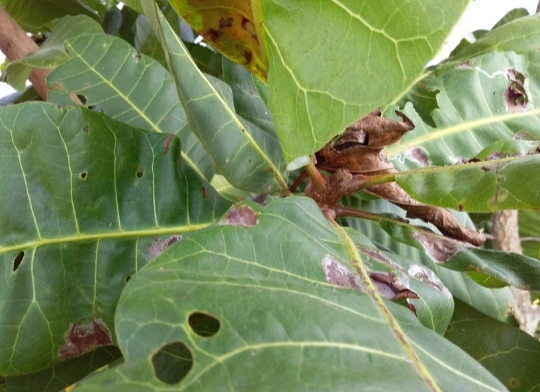Dysdercus wolkerii: (1, 92, 235, 371)
